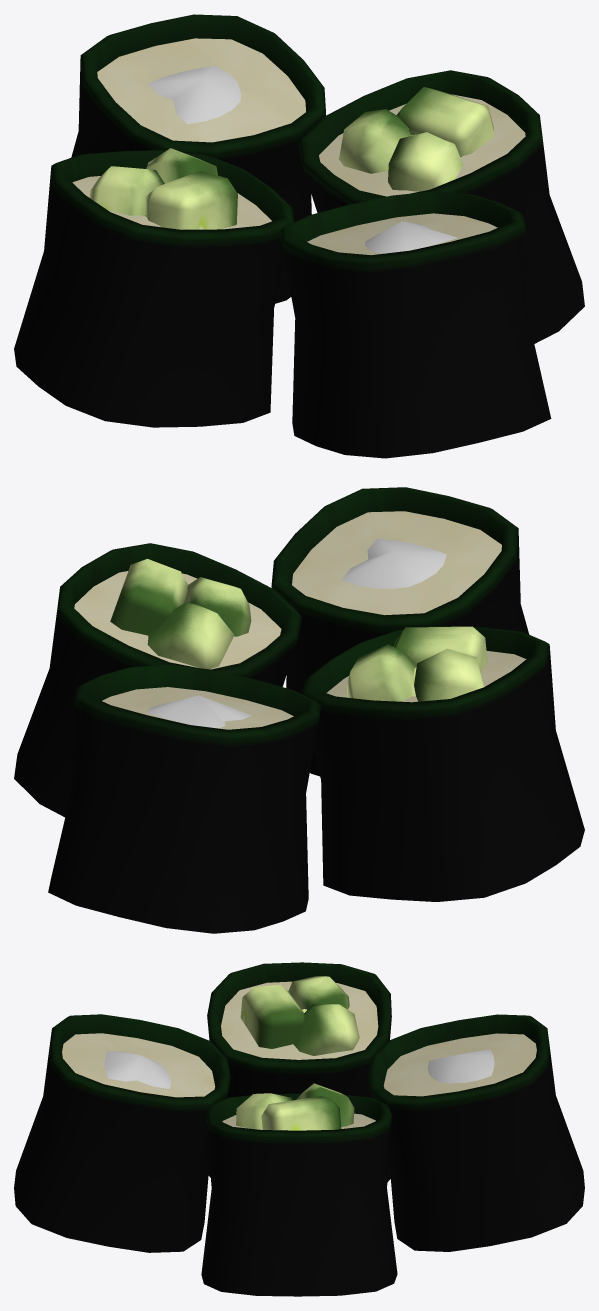
File: Fish_Cucumber_Sushi.fbx
3 views of the same model, one above another, from view 1: azimuth 30°, elevation 25°; view 2: azimuth 150°, elevation 25°; view 3: azimuth 270°, elevation 25° (orthographic). The views are drawn at different scales.
Visible parts, largest first — view 1: m_recipe_sushi_04; view 2: m_recipe_sushi_04; view 3: m_recipe_sushi_04.
Part boxes in pixels (box(x1,y1,x2,y2)): m_recipe_sushi_04: box(14, 14, 584, 458); m_recipe_sushi_04: box(14, 487, 584, 933); m_recipe_sushi_04: box(14, 962, 584, 1296).
Size of the model in its own units: 73.63 by 31.81 by 86.8.
